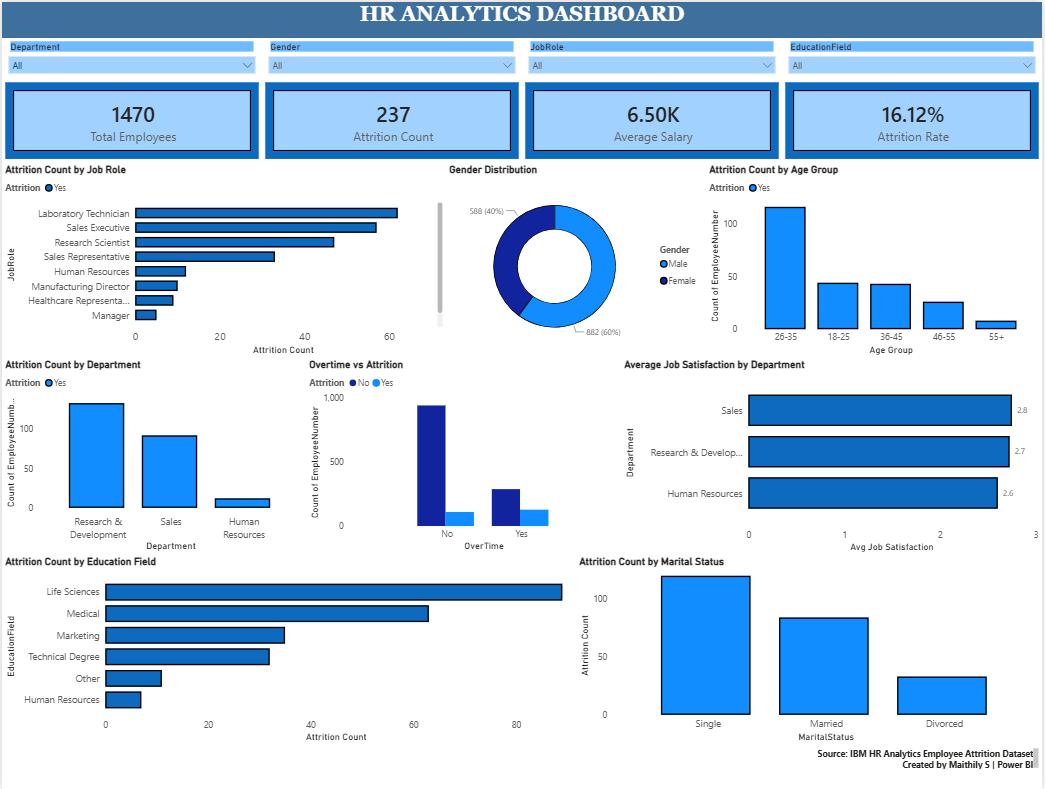

This screenshot's page, from the dashboard's own definition file:
{"tool":"powerbi","page":{"name":"Page 1","canvas":[1600,1211],"ordinal":0},"visuals":[{"type":"cardVisual","fields":{"Data":["WA_Fn-UseC_-HR-Employee-Attrition.Total Employees"]},"box":[0,118.6,400,128.6],"z":0},{"type":"cardVisual","fields":{"Data":["WA_Fn-UseC_-HR-Employee-Attrition.Attrition Count"]},"box":[400,118.6,400,128.6],"z":1000},{"type":"cardVisual","fields":{"Data":["WA_Fn-UseC_-HR-Employee-Attrition.Attrition Rate"]},"box":[1200,118.6,400,128.6],"z":2000},{"type":"cardVisual","fields":{"Data":["WA_Fn-UseC_-HR-Employee-Attrition.Average Salary"]},"box":[800,118.6,400,128.6],"z":3000},{"type":"clusteredBarChart","title":"Average Job Satisfaction by Department","fields":{"Y":["WA_Fn-UseC_-HR-Employee-Attrition.Avg Job Satisfaction"],"Category":["WA_Fn-UseC_-HR-Employee-Attrition.Department"]},"box":[952.9,547.1,647.1,302.9],"z":4000},{"type":"textbox","title":"HR ANALYTICS DASHBOARD","box":[0,0,1600,55.7],"z":5000},{"type":"donutChart","title":"Gender Distribution","fields":{"Category":["WA_Fn-UseC_-HR-Employee-Attrition.Gender"],"Y":["CountNonNull(WA_Fn-UseC_-HR-Employee-Attrition.EmployeeNumber)"]},"box":[682.9,247.1,400,300],"z":6000},{"type":"clusteredColumnChart","title":"Attrition Count by Department","fields":{"Category":["WA_Fn-UseC_-HR-Employee-Attrition.Department"],"Y":["CountNonNull(WA_Fn-UseC_-HR-Employee-Attrition.EmployeeNumber)"],"Series":["WA_Fn-UseC_-HR-Employee-Attrition.Attrition"]},"box":[0,547.1,467.1,302.9],"z":7000},{"type":"barChart","title":"Attrition Count by Job Role","fields":{"Category":["WA_Fn-UseC_-HR-Employee-Attrition.JobRole"],"Series":["WA_Fn-UseC_-HR-Employee-Attrition.Attrition"],"Y":["WA_Fn-UseC_-HR-Employee-Attrition.Attrition Count"]},"box":[0,247.1,682.9,300],"z":8000},{"type":"clusteredColumnChart","title":"Overtime vs Attrition","fields":{"Category":["WA_Fn-UseC_-HR-Employee-Attrition.OverTime"],"Y":["CountNonNull(WA_Fn-UseC_-HR-Employee-Attrition.EmployeeNumber)"],"Series":["WA_Fn-UseC_-HR-Employee-Attrition.Attrition"]},"box":[467.1,547.1,485.7,302.9],"z":9000},{"type":"clusteredColumnChart","title":"Attrition Count by Age Group","fields":{"Category":["WA_Fn-UseC_-HR-Employee-Attrition.Age Group"],"Y":["CountNonNull(WA_Fn-UseC_-HR-Employee-Attrition.EmployeeNumber)"],"Series":["WA_Fn-UseC_-HR-Employee-Attrition.Attrition"]},"box":[1082.9,247.1,517.1,300],"z":10000},{"type":"slicer","fields":{"Values":["WA_Fn-UseC_-HR-Employee-Attrition.Department"]},"box":[0,55.7,400,62.9],"z":11000},{"type":"slicer","fields":{"Values":["WA_Fn-UseC_-HR-Employee-Attrition.Gender"]},"box":[400,55.7,400,62.9],"z":12000},{"type":"slicer","fields":{"Values":["WA_Fn-UseC_-HR-Employee-Attrition.JobRole"]},"box":[800,55.7,400,62.9],"z":13000},{"type":"slicer","fields":{"Values":["WA_Fn-UseC_-HR-Employee-Attrition.EducationField"]},"box":[1200,55.7,400,62.9],"z":14000},{"type":"clusteredBarChart","title":"Attrition Count by Education Field","fields":{"Category":["WA_Fn-UseC_-HR-Employee-Attrition.EducationField"],"Y":["WA_Fn-UseC_-HR-Employee-Attrition.Attrition Count"]},"box":[0,850,882.9,292.9],"z":15000},{"type":"columnChart","title":"Attrition Count by Marital Status","fields":{"Y":["WA_Fn-UseC_-HR-Employee-Attrition.Attrition Count"],"Category":["WA_Fn-UseC_-HR-Employee-Attrition.MaritalStatus"]},"box":[882.9,850,717.1,292.9],"z":16000},{"type":"textbox","box":[1241.5,1143.1,358.5,41.5],"z":17000}]}

Visuals, with their boxes in screenshot pixels (x1, y1, x2, y2), scaled from the page's 1600x1211 canvas onto the 1045x789 screenshot:
cardVisual - WA_Fn-UseC_-HR-Employee-Attrition.Total Employees: left=0, top=77, right=261, bottom=161
cardVisual - WA_Fn-UseC_-HR-Employee-Attrition.Attrition Count: left=261, top=77, right=522, bottom=161
cardVisual - WA_Fn-UseC_-HR-Employee-Attrition.Attrition Rate: left=784, top=77, right=1044, bottom=161
cardVisual - WA_Fn-UseC_-HR-Employee-Attrition.Average Salary: left=522, top=77, right=784, bottom=161
"Average Job Satisfaction by Department" clusteredBarChart: left=622, top=356, right=1044, bottom=554
"HR ANALYTICS DASHBOARD" textbox: left=0, top=0, right=1044, bottom=36
"Gender Distribution" donutChart: left=446, top=161, right=707, bottom=356
"Attrition Count by Department" clusteredColumnChart: left=0, top=356, right=305, bottom=554
"Attrition Count by Job Role" barChart: left=0, top=161, right=446, bottom=356
"Overtime vs Attrition" clusteredColumnChart: left=305, top=356, right=622, bottom=554
"Attrition Count by Age Group" clusteredColumnChart: left=707, top=161, right=1044, bottom=356
slicer - WA_Fn-UseC_-HR-Employee-Attrition.Department: left=0, top=36, right=261, bottom=77
slicer - WA_Fn-UseC_-HR-Employee-Attrition.Gender: left=261, top=36, right=522, bottom=77
slicer - WA_Fn-UseC_-HR-Employee-Attrition.JobRole: left=522, top=36, right=784, bottom=77
slicer - WA_Fn-UseC_-HR-Employee-Attrition.EducationField: left=784, top=36, right=1044, bottom=77
"Attrition Count by Education Field" clusteredBarChart: left=0, top=554, right=577, bottom=745
"Attrition Count by Marital Status" columnChart: left=577, top=554, right=1044, bottom=745
textbox: left=811, top=745, right=1044, bottom=772
